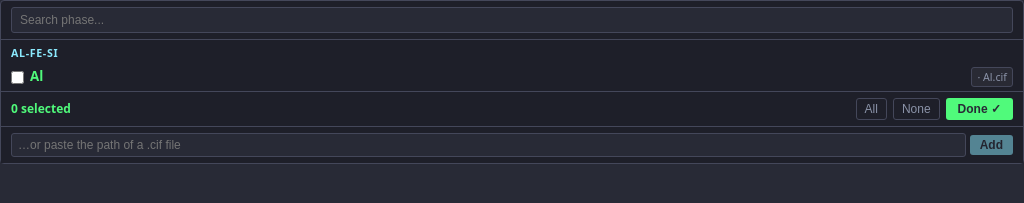
with onAddPath › has its own wording for not_absolute
In the field with placeholder "…or paste the path of a .cif file": (488, 145) [11,133,966,157], type "/a/x"
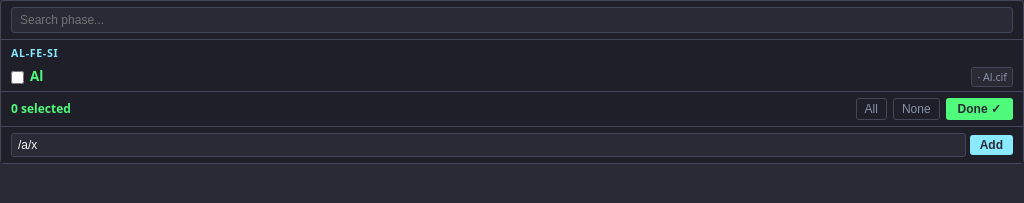
Click the button "Add": (991, 145) [970,135,1013,155]
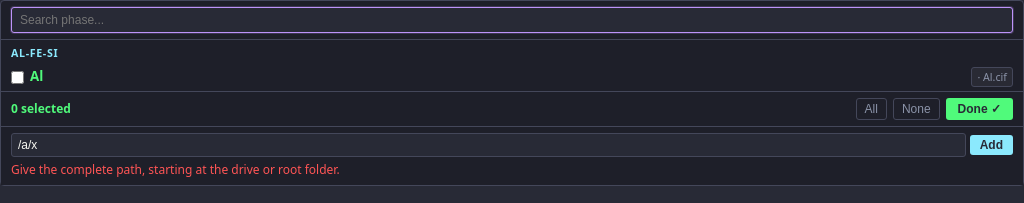
Result: the text "Give the complete path, starting at the drive or root folder." is shown at [11,161,340,178]
